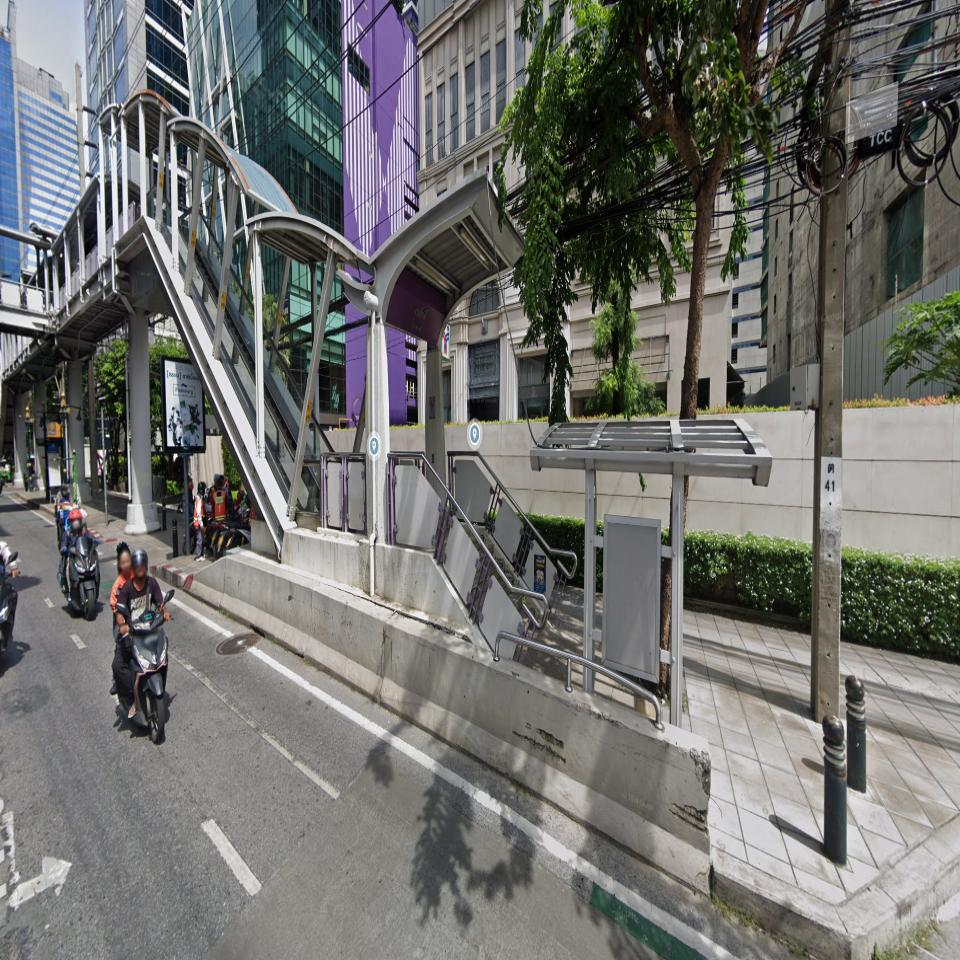signage: (386, 281, 450, 360), (386, 282, 445, 346)
